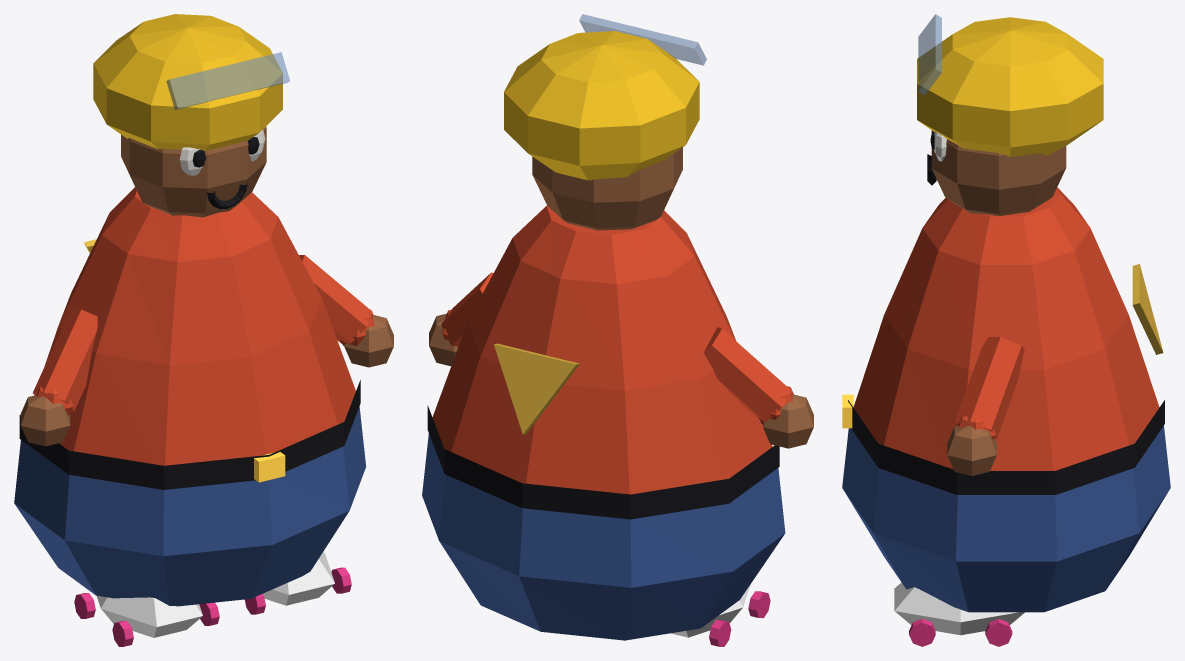
The model's file is npc_tito.glb.
3 views of the same model, side by side, from view 1: azimuth 30°, elevation 25°; view 2: azimuth 150°, elevation 25°; view 3: azimuth 270°, elevation 25° (orthographic). The views are drawn at different scales.
Parts seen in each view (by area): view 1: body_tito_jacket, body_jeans, cap_helmet_yellow, head_skin_cacao, body_black, arms_tito_jacket, legs_skates_white, cap_visor, arms_skin_cacao, face_black, body_gold, face_white; view 2: body_tito_jacket, body_jeans, cap_helmet_yellow, body_black, head_skin_cacao, arms_tito_jacket, body_pizza_logo, arms_skin_cacao, cap_visor, legs_skates_white; view 3: body_tito_jacket, body_jeans, cap_helmet_yellow, body_black, head_skin_cacao, arms_tito_jacket, legs_skates_white, arms_skin_cacao, cap_visor, body_pizza_logo, feet_skate_wheel (×2).
Boxes of the visible parts, left/top/right/bottom form: body_tito_jacket: left=45, top=187, right=355, bottom=465; body_jeans: left=14, top=406, right=366, bottom=606; cap_helmet_yellow: left=93, top=14, right=282, bottom=151; head_skin_cacao: left=121, top=127, right=266, bottom=217; body_black: left=19, top=380, right=360, bottom=489; arms_tito_jacket: left=33, top=255, right=374, bottom=415; legs_skates_white: left=96, top=552, right=334, bottom=637; cap_visor: left=166, top=52, right=289, bottom=109; arms_skin_cacao: left=20, top=315, right=393, bottom=446; face_black: left=192, top=137, right=259, bottom=209; body_gold: left=254, top=452, right=285, bottom=482; face_white: left=179, top=130, right=265, bottom=175; body_tito_jacket: left=432, top=205, right=772, bottom=494; body_jeans: left=422, top=433, right=785, bottom=640; cap_helmet_yellow: left=504, top=31, right=699, bottom=180; body_black: left=427, top=405, right=779, bottom=519; head_skin_cacao: left=532, top=147, right=682, bottom=230; arms_tito_jacket: left=441, top=272, right=793, bottom=424; body_pizza_logo: left=494, top=343, right=579, bottom=434; arms_skin_cacao: left=429, top=313, right=813, bottom=448; cap_visor: left=579, top=14, right=706, bottom=65; legs_skates_white: left=671, top=584, right=750, bottom=637; body_tito_jacket: left=853, top=187, right=1159, bottom=470; body_jeans: left=842, top=426, right=1170, bottom=612; cap_helmet_yellow: left=917, top=17, right=1103, bottom=156; body_black: left=848, top=400, right=1164, bottom=494; head_skin_cacao: left=931, top=130, right=1066, bottom=216; arms_tito_jacket: left=955, top=337, right=1024, bottom=439; legs_skates_white: left=894, top=582, right=1024, bottom=635; arms_skin_cacao: left=947, top=425, right=996, bottom=475; cap_visor: left=918, top=14, right=941, bottom=95; body_pizza_logo: left=1132, top=264, right=1163, bottom=354; feet_skate_wheel (×2): left=909, top=618, right=1012, bottom=646.
Bounding box in the file's own units: 1.13 × 1.63 × 0.86.
